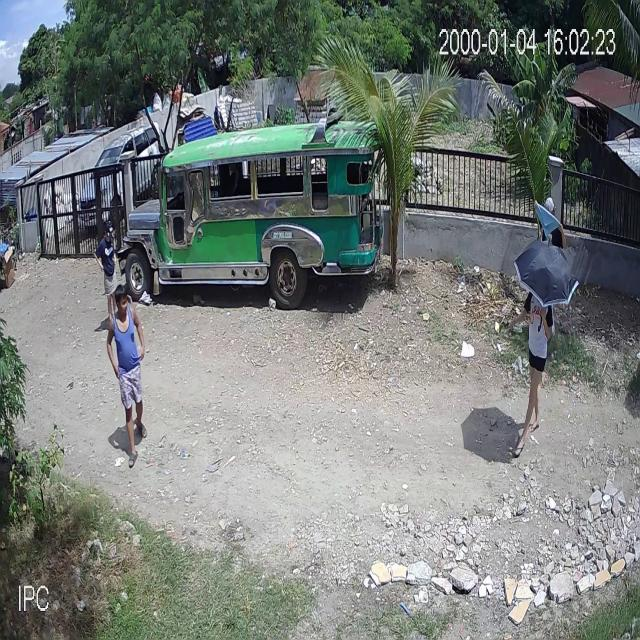standing: (96, 221, 123, 339)
walking: (511, 292, 556, 456), (112, 285, 148, 471), (536, 196, 570, 252)
